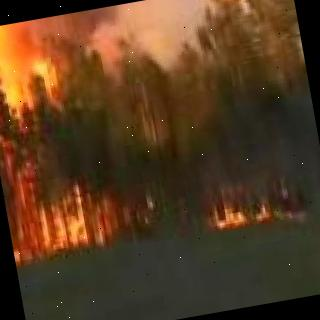fire: (0, 108, 160, 256), (0, 14, 84, 122), (202, 180, 291, 232)
